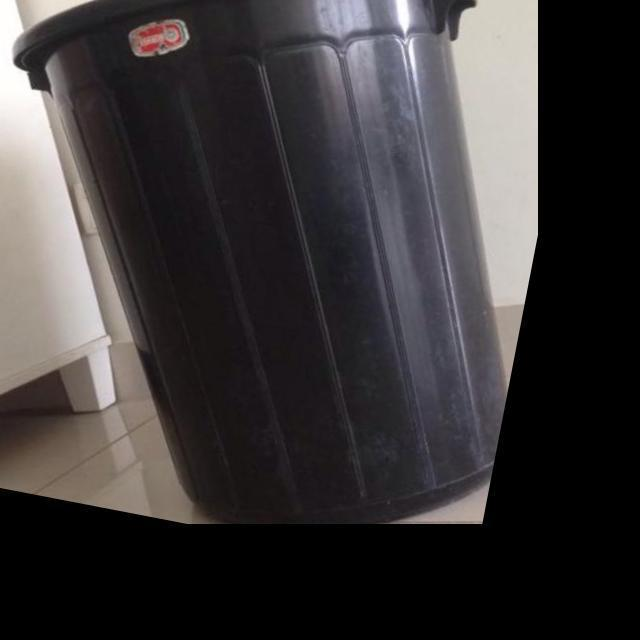Bote de Basura: (0, 0, 587, 578)
